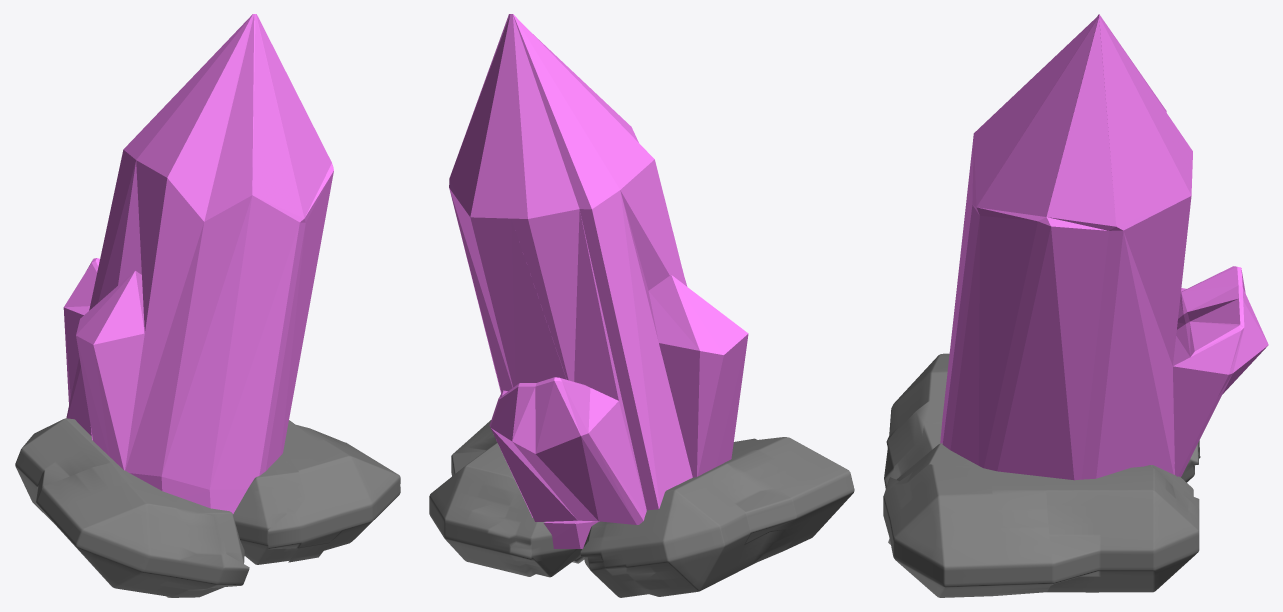
File: Crystal.fbx
The picture shows the model from 3 angles, left to right: view 1: azimuth 30°, elevation 25°; view 2: azimuth 150°, elevation 25°; view 3: azimuth 270°, elevation 25°; orthographic projection. The views are drawn at different scales.
Visible parts, largest first — view 1: pPlane1, pasted__pCube1, pCube1; view 2: pPlane1, pasted__pCube1, pCube1; view 3: pPlane1, pCube1, pasted__pCube1.
Boxes of the visible parts, x1,y1,x2,y2 form: pPlane1: (63, 14, 333, 513); pasted__pCube1: (15, 418, 249, 597); pCube1: (233, 420, 400, 564); pPlane1: (449, 14, 748, 548); pasted__pCube1: (580, 437, 854, 597); pCube1: (429, 420, 584, 577); pPlane1: (940, 14, 1268, 480); pCube1: (883, 443, 1199, 597); pasted__pCube1: (884, 353, 1200, 488).
Bounding box in the file's own units: 0.5993 × 0.8909 × 0.5253.
